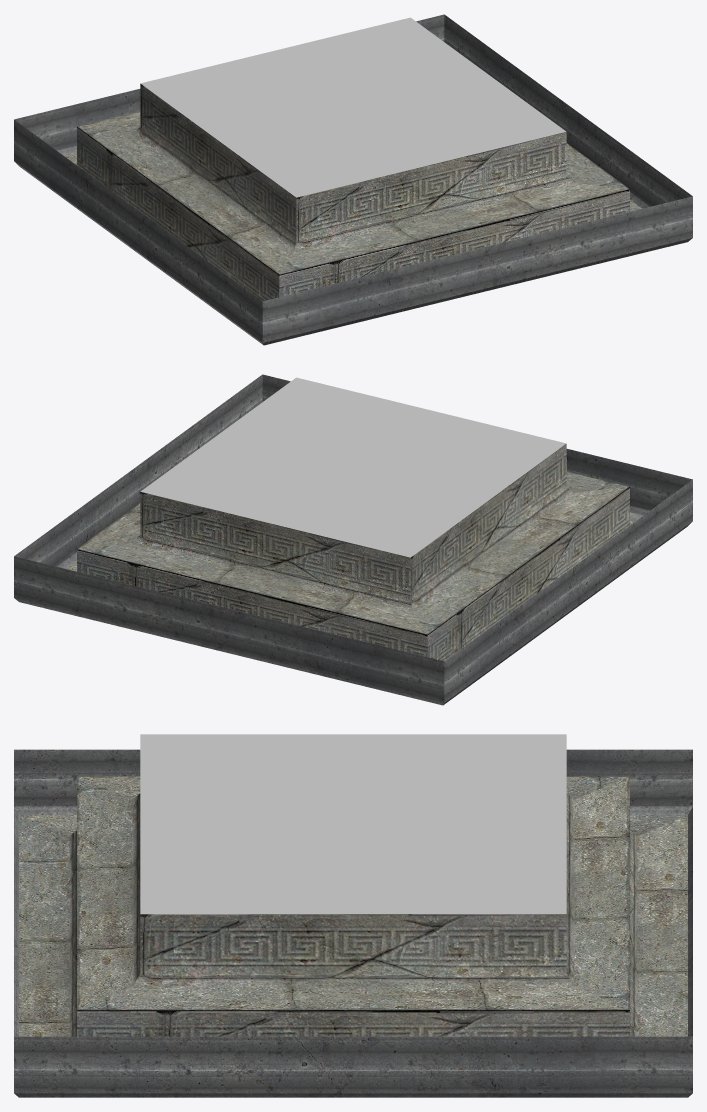
File: Celling1.FBX
The picture shows the model from 3 angles, top to bottom: view 1: azimuth 30°, elevation 25°; view 2: azimuth 150°, elevation 25°; view 3: azimuth 270°, elevation 25°; orthographic projection. The views are drawn at different scales.
Parts seen in each view (by area): view 1: Object42; view 2: Object42; view 3: Object42.
Boxes of the visible parts, <box> form: Object42: <box>14,14,692,345</box>; Object42: <box>14,374,692,705</box>; Object42: <box>14,734,692,1097</box>.
Size of the model in its own units: 500 by 107 by 500.
